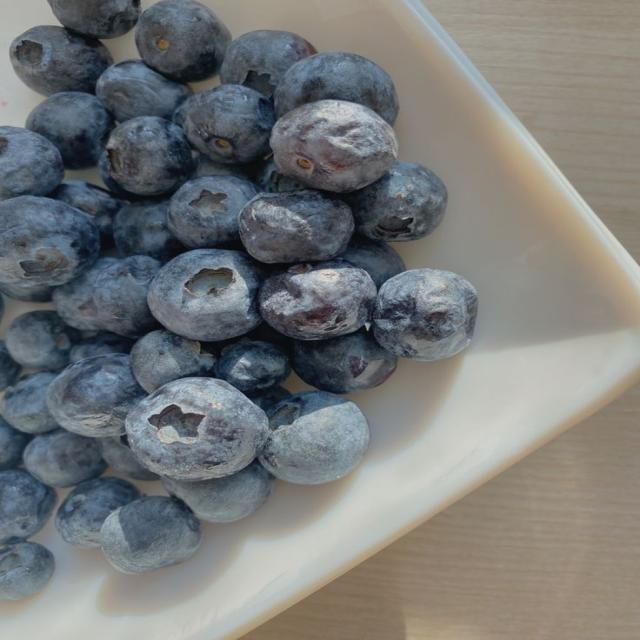blueberry: (127, 378, 267, 480), (271, 100, 398, 192), (148, 249, 262, 341), (260, 391, 369, 484), (374, 269, 478, 360), (260, 260, 376, 339), (274, 52, 399, 124), (0, 196, 99, 286), (47, 354, 146, 437), (239, 190, 353, 262), (347, 162, 447, 241), (100, 496, 201, 574), (136, 0, 231, 82), (179, 85, 275, 164), (10, 26, 113, 95), (106, 117, 194, 196), (162, 461, 273, 522), (293, 329, 397, 394), (167, 175, 258, 248), (27, 92, 113, 169), (220, 31, 317, 97), (55, 477, 140, 548), (96, 61, 193, 121), (94, 256, 161, 337), (131, 331, 217, 392), (24, 429, 106, 487), (0, 126, 64, 199), (53, 257, 117, 330), (51, 181, 124, 242), (6, 311, 79, 370), (114, 201, 184, 262), (0, 470, 55, 544), (218, 340, 291, 394), (0, 372, 59, 434), (338, 236, 406, 288), (48, 0, 140, 38), (0, 543, 54, 600), (97, 435, 158, 480), (98, 154, 149, 201), (70, 333, 133, 364), (256, 156, 305, 193), (195, 154, 256, 182), (0, 418, 30, 471), (245, 323, 293, 355), (0, 281, 54, 302), (248, 386, 290, 411), (0, 341, 20, 390), (0, 297, 4, 321)
